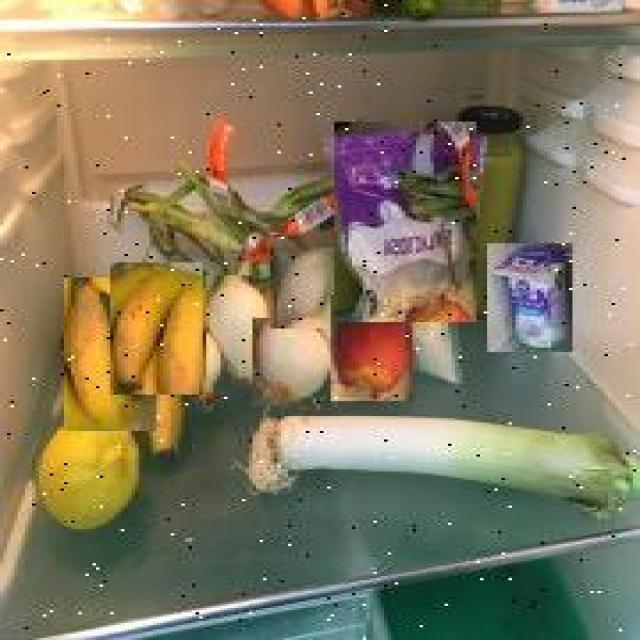apple: (330, 294, 412, 401)
banana: (64, 278, 156, 430), (110, 262, 203, 395)
grated_cheese: (336, 122, 478, 324)
leek: (247, 412, 638, 522)
lemon: (38, 405, 140, 538)
onion: (206, 275, 270, 388), (255, 318, 332, 408), (270, 248, 338, 328)
yogurt: (488, 243, 574, 352)
